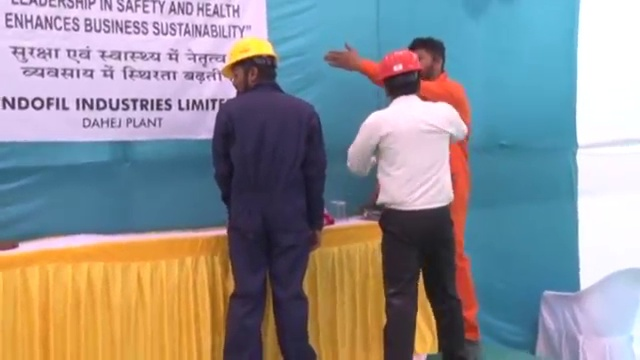helmet: (219, 36, 279, 78), (380, 49, 422, 79)
helmet_off: (409, 35, 447, 83)
helmet_on: (218, 38, 279, 93), (377, 48, 423, 101)
person: (347, 50, 467, 360), (212, 35, 325, 360), (408, 35, 481, 354)
